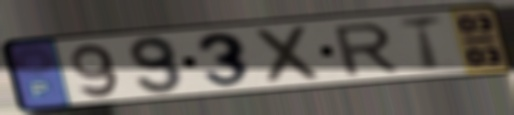3: (195, 29, 259, 91)
9: (124, 34, 187, 97), (68, 42, 122, 99)
R: (329, 20, 402, 78)
T: (396, 12, 447, 74)
X: (251, 23, 326, 87)
